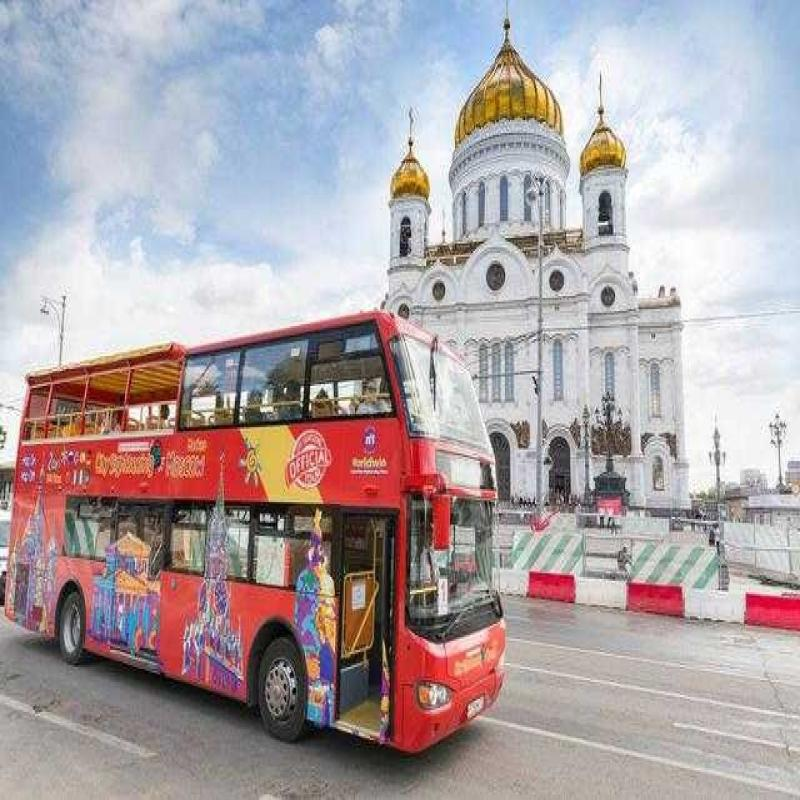bus: (10, 339, 506, 766)
